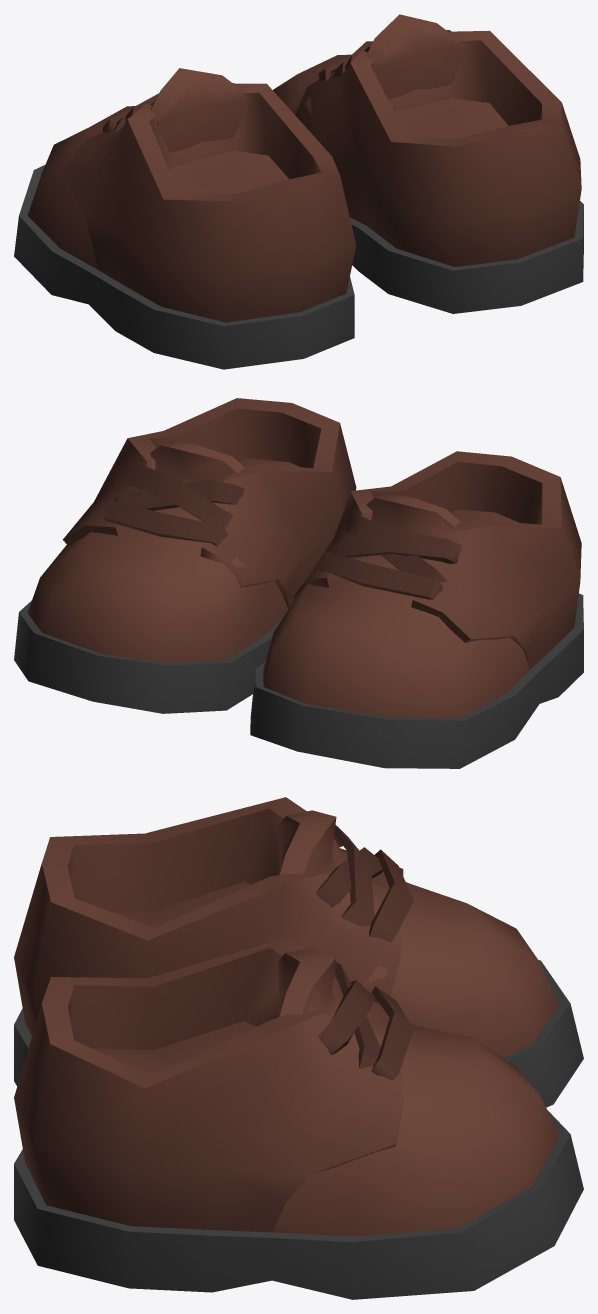
Rendered from Shoes_4.fbx.
3 renders of one model, top to bottom at view 1: azimuth 30°, elevation 25°; view 2: azimuth 150°, elevation 25°; view 3: azimuth 270°, elevation 25°, orthographic. The views are drawn at different scales.
Parts seen in each view (by area): view 1: Shoes_4; view 2: Shoes_4; view 3: Shoes_4.
Part boxes in pixels (bbox=[...]): Shoes_4: bbox=[14, 14, 583, 369]; Shoes_4: bbox=[14, 398, 583, 768]; Shoes_4: bbox=[14, 797, 583, 1299].
Size of the model in its own units: 41.82 by 17.4 by 33.98.
